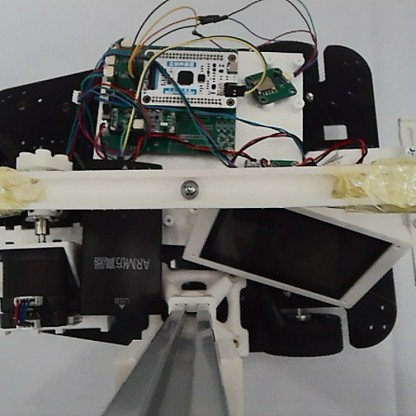ironball: (177, 177, 199, 200)
